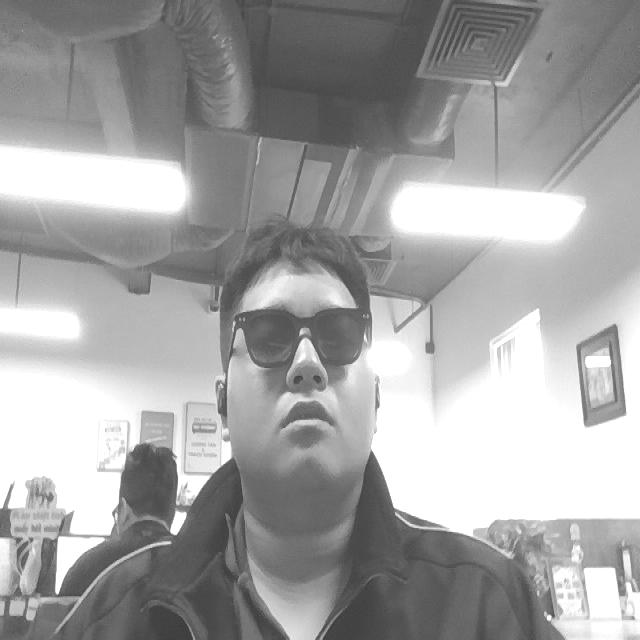fake: (226, 295, 373, 370)
real: (213, 228, 390, 499)
